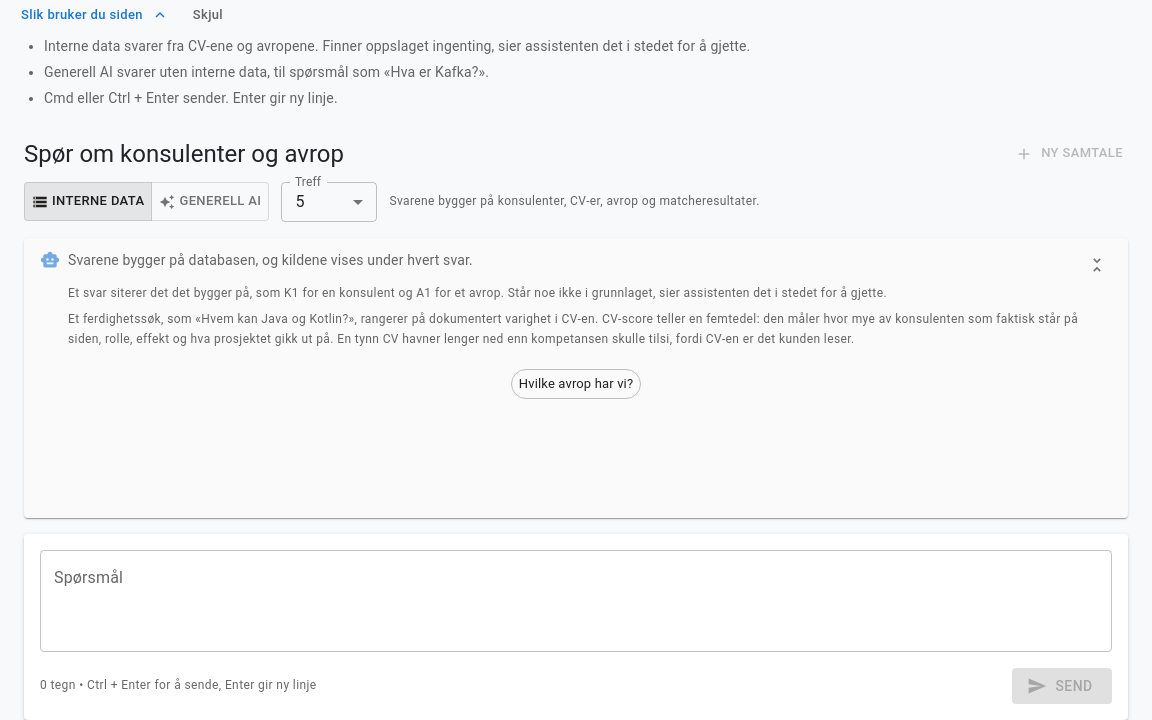
Test case: ChatAssistantPage › shows a candidate that could not be scored without inventing a number
(page scrolled)
Replace the text in the text box labelled "Spørsmål" with "Hvem passer best?": (576, 601) [54,566,1098,635]
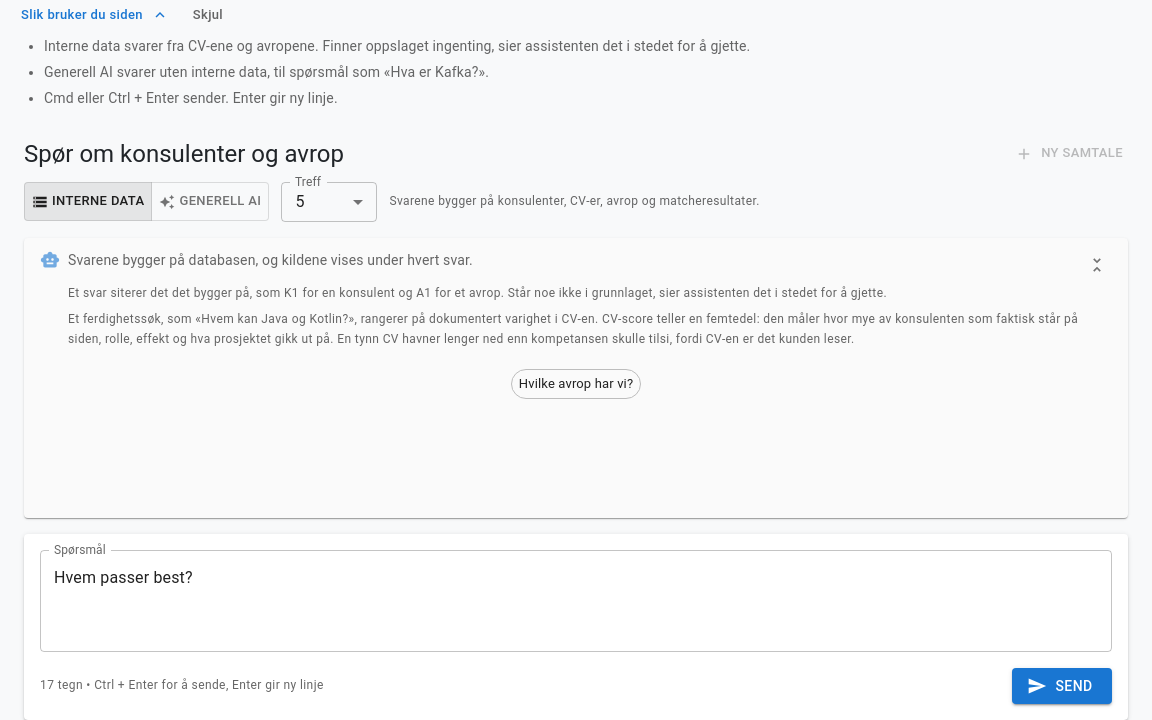
Click the button "Send": (1062, 686) [1012,668,1112,704]
(page scrolled)
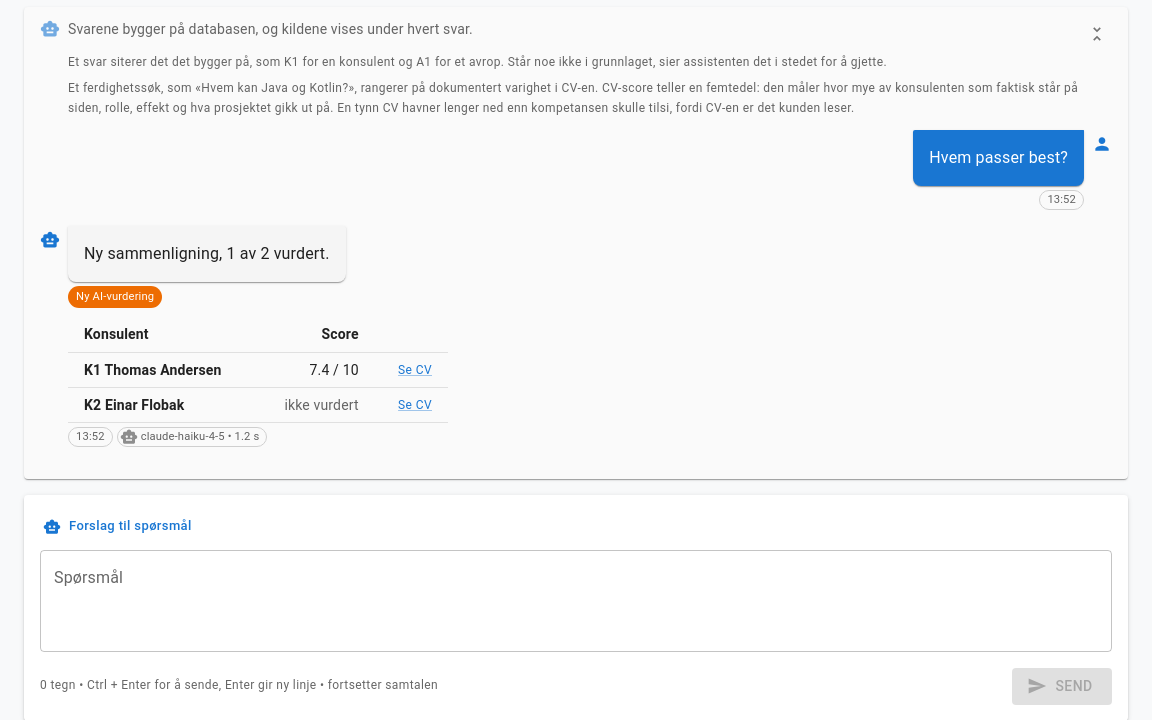
Check: the text "ikke vurdert" is shown, box [272,395,359,415]
